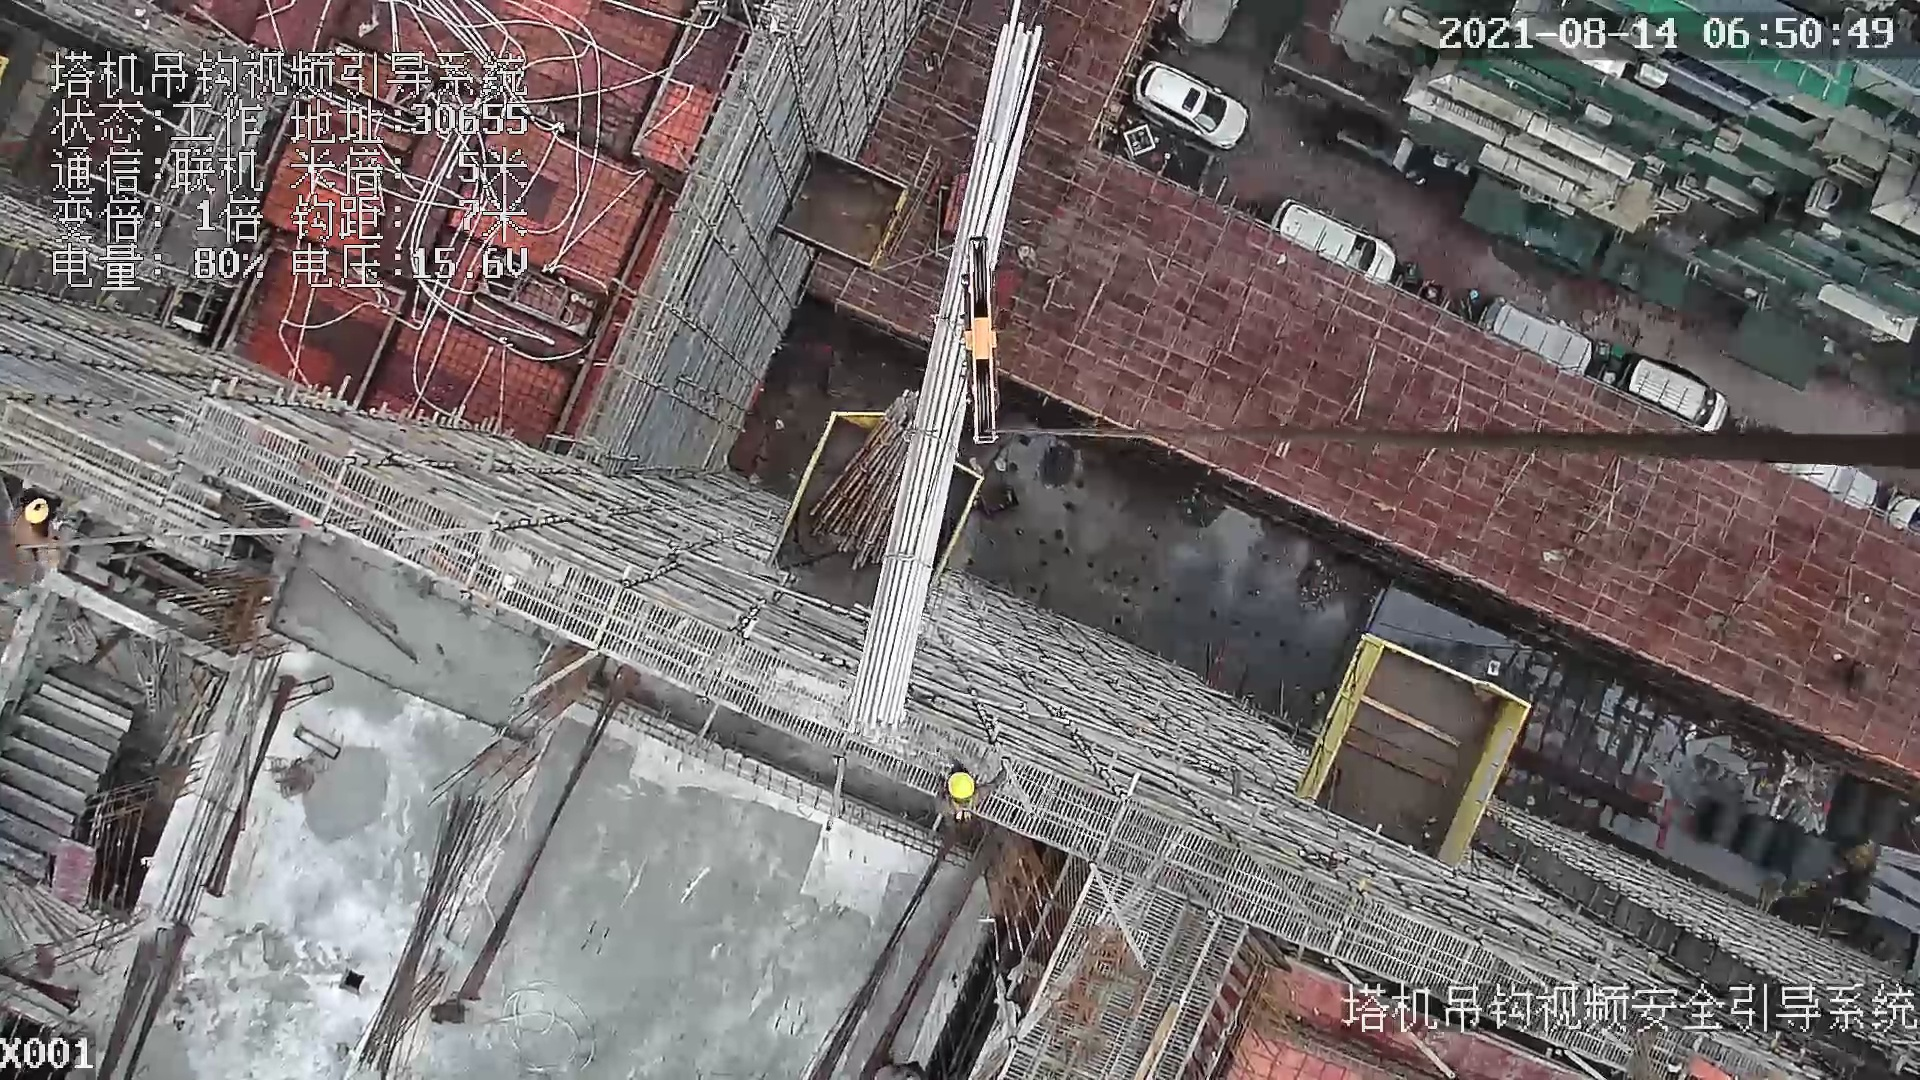helmet: (14, 488, 61, 529), (943, 769, 987, 809)
hook: (958, 233, 1017, 454)
person: (929, 753, 1003, 831), (8, 482, 58, 542)
